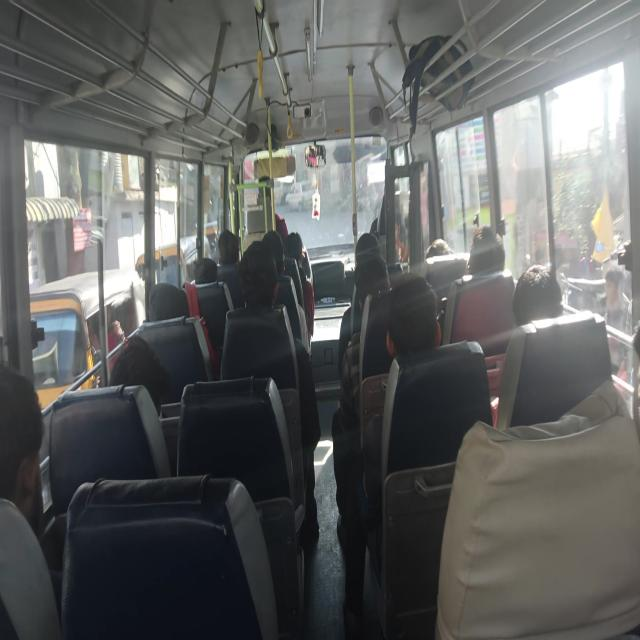person: (336, 273, 442, 635), (220, 239, 321, 542), (361, 273, 442, 504), (0, 366, 61, 637), (107, 294, 171, 416), (0, 366, 45, 536), (262, 230, 312, 355), (284, 230, 315, 342), (512, 263, 565, 326), (602, 265, 630, 332), (147, 282, 189, 321), (217, 229, 240, 265), (425, 238, 453, 258)
